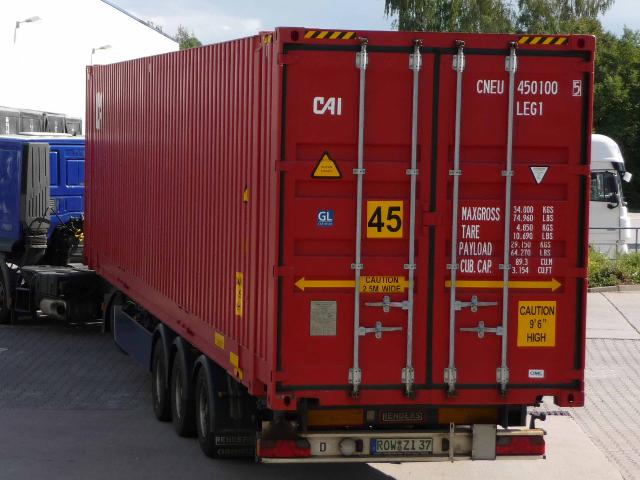ContainerNum: (475, 77, 583, 117)
